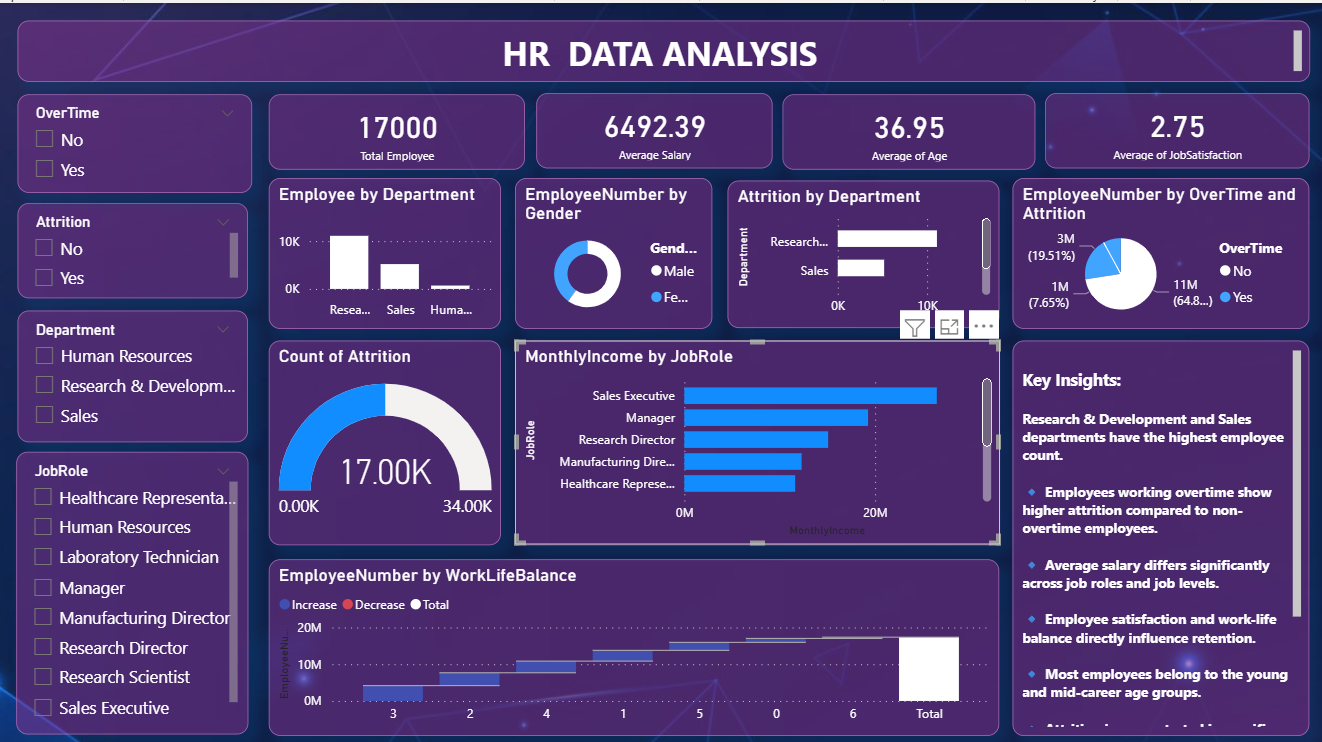

The page's visual inventory and layout, read from the dashboard file:
{"tool":"powerbi","page":{"name":"Dashboard","canvas":[1280,720],"ordinal":0},"visuals":[{"type":"card","fields":{"Values":["CountNonNull(hr_analysis.EmployeeNumber)"]},"box":[259.3,87.8,246.9,72.7],"z":0},{"type":"card","fields":{"Values":["Avg(hr_analysis.JobSatisfaction)"]},"box":[1008.4,86.4,255.2,72.7],"z":1000},{"type":"card","fields":{"Values":["Avg(hr_analysis.Age)"]},"box":[754.6,87.8,244.2,72.7],"z":2000},{"type":"card","fields":{"Values":["Avg(hr_analysis.MonthlyIncome)"]},"box":[517.2,86.4,227.7,72.7],"z":3000},{"type":"clusteredColumnChart","fields":{"Category":["hr_analysis.Department"],"Y":["CountNonNull(hr_analysis.EmployeeNumber)"]},"box":[259.3,168.7,223.6,145.4],"z":4000},{"type":"donutChart","fields":{"Category":["hr_analysis.Gender"],"Y":["Sum(hr_analysis.EmployeeNumber)"]},"box":[496.6,168.7,190.7,145.4],"z":5000},{"type":"barChart","fields":{"Category":["hr_analysis.Department"],"Y":["CountNonNull(hr_analysis.Attrition)"]},"box":[702.4,171.5,262,142.7],"z":6000},{"type":"pieChart","fields":{"Category":["hr_analysis.OverTime"],"Series":["hr_analysis.Attrition"],"Y":["Sum(hr_analysis.EmployeeNumber)"]},"box":[976.8,168.7,286.7,145.4],"z":7000},{"type":"barChart","fields":{"Category":["hr_analysis.JobRole"],"Y":["Sum(hr_analysis.MonthlyIncome)"]},"box":[496.6,325.1,467.8,197.6],"z":8000},{"type":"waterfallChart","fields":{"Category":["hr_analysis.WorkLifeBalance"],"Y":["Sum(hr_analysis.EmployeeNumber)"]},"box":[259.3,536.4,705.2,170.1],"z":9000},{"type":"textbox","box":[976.8,325.1,286.7,381.4],"z":10000},{"type":"slicer","fields":{"Values":["hr_analysis.Attrition"]},"box":[16.8,193,222.4,92.3],"z":11000},{"type":"slicer","fields":{"Values":["hr_analysis.Department"]},"box":[16.5,296.3,222.3,127.6],"z":12000},{"type":"slicer","fields":{"Values":["hr_analysis.JobRole"]},"box":[15.1,433.5,223.6,273],"z":13000},{"type":"slicer","fields":{"Values":["hr_analysis.OverTime"]},"box":[16.8,88.1,226.6,95.1],"z":14000},{"type":"gauge","fields":{"Y":["CountNonNull(hr_analysis.Attrition)"]},"box":[259.3,325.1,223.6,197.6],"z":15000},{"type":"textbox","box":[16.5,16.5,1247.1,59],"z":16000}]}

Visuals, with their boxes in screenshot pixels (x1, y1, x2, y2), scaled from the page's 1280x720 canvas onto the 1322x742 screenshot:
card - CountNonNull(hr_analysis.EmployeeNumber): locate(268, 90, 523, 165)
card - Avg(hr_analysis.JobSatisfaction): locate(1041, 89, 1305, 164)
card - Avg(hr_analysis.Age): locate(779, 90, 1032, 165)
card - Avg(hr_analysis.MonthlyIncome): locate(534, 89, 769, 164)
clusteredColumnChart - hr_analysis.Department x CountNonNull(hr_analysis.EmployeeNumber): locate(268, 174, 499, 324)
donutChart - hr_analysis.Gender x Sum(hr_analysis.EmployeeNumber): locate(513, 174, 710, 324)
barChart - hr_analysis.Department x CountNonNull(hr_analysis.Attrition): locate(725, 177, 996, 324)
pieChart - hr_analysis.OverTime x hr_analysis.Attrition: locate(1009, 174, 1305, 324)
barChart - hr_analysis.JobRole x Sum(hr_analysis.MonthlyIncome): locate(513, 335, 996, 539)
waterfallChart - hr_analysis.WorkLifeBalance x Sum(hr_analysis.EmployeeNumber): locate(268, 553, 996, 728)
textbox: locate(1009, 335, 1305, 728)
slicer - hr_analysis.Attrition: locate(17, 199, 247, 294)
slicer - hr_analysis.Department: locate(17, 305, 247, 437)
slicer - hr_analysis.JobRole: locate(16, 447, 247, 728)
slicer - hr_analysis.OverTime: locate(17, 91, 251, 189)
gauge - CountNonNull(hr_analysis.Attrition): locate(268, 335, 499, 539)
textbox: locate(17, 17, 1305, 78)
